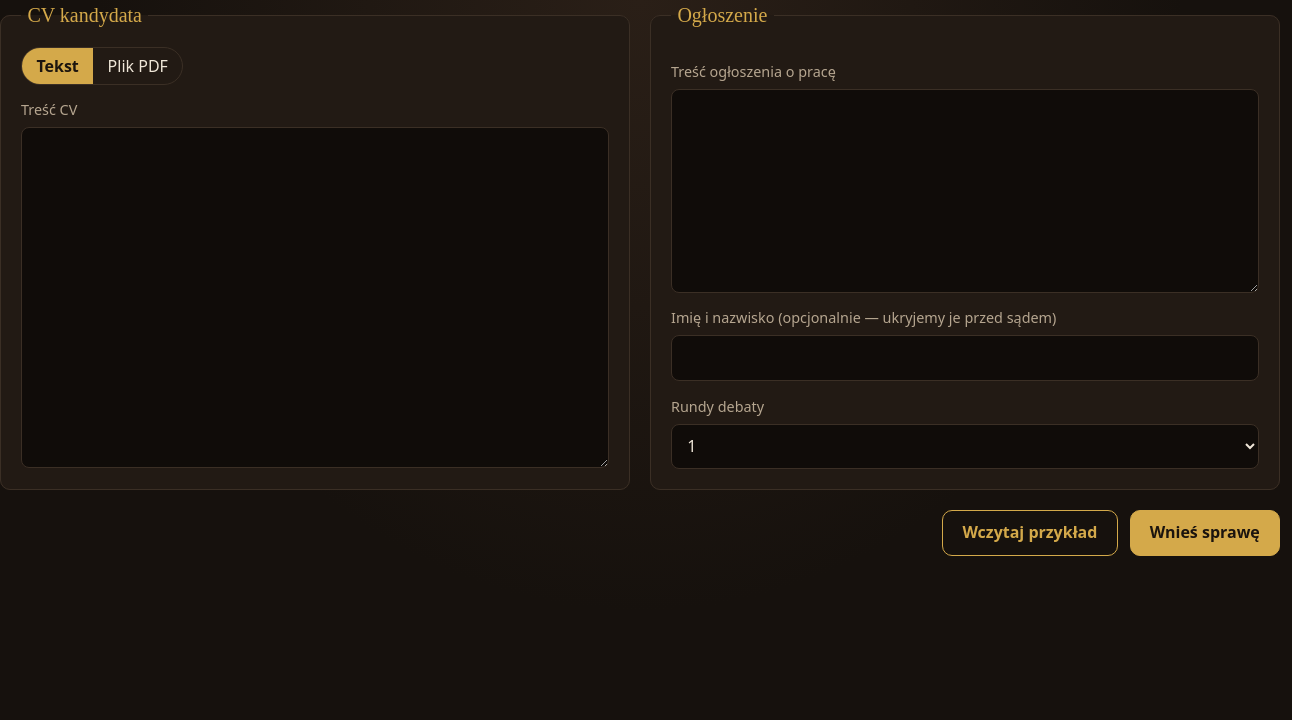
Scenario: FilingForm › blad z serwera: komunikat i problemy; formularz znow aktywny
Click the button "Wczytaj przykład" at (1030, 533), box 942,510 -> 1118,556
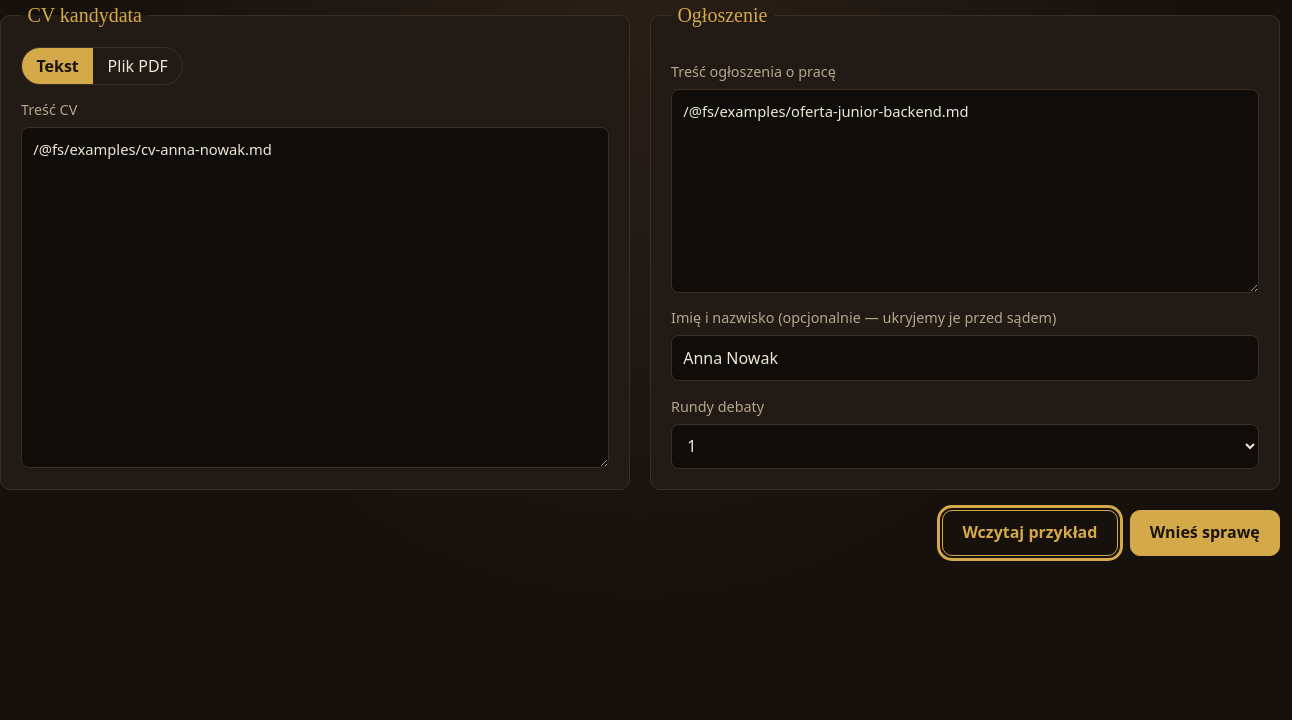
Click the button "Wnieś sprawę" at (1205, 533), box 1130,510 -> 1280,556
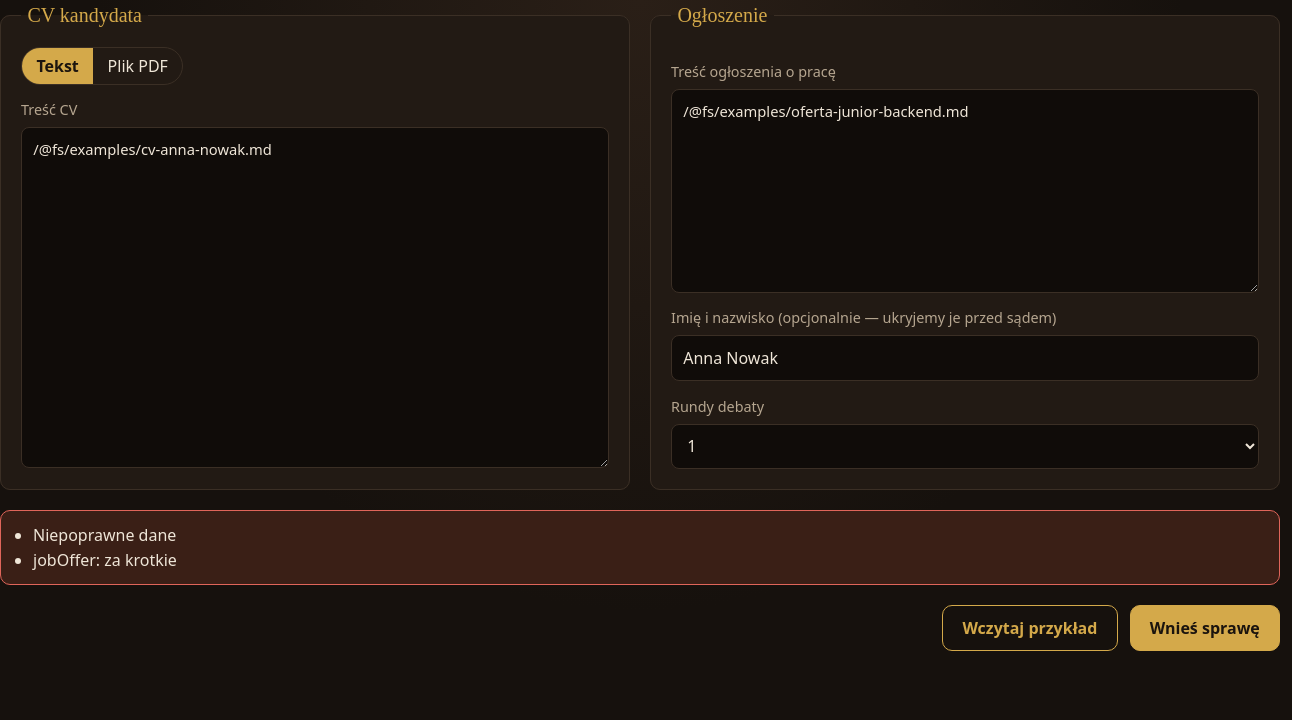
Expected: the button "Wnieś sprawę" is enabled, 1130,605 -> 1280,651
Now the message reads "Niepoprawne dane jobOffer: za krotkie", box 0,510 -> 1280,585
